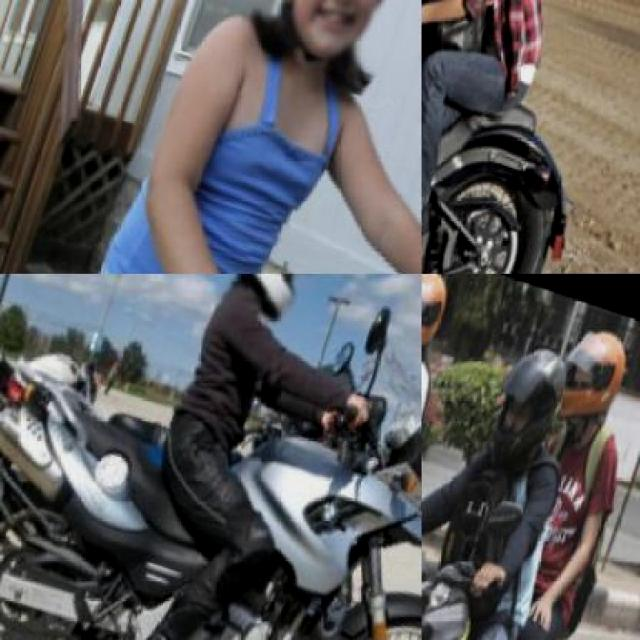With Helmet: (474, 329, 580, 476), (237, 0, 420, 77), (548, 314, 638, 432), (198, 274, 344, 335), (422, 274, 460, 366)
